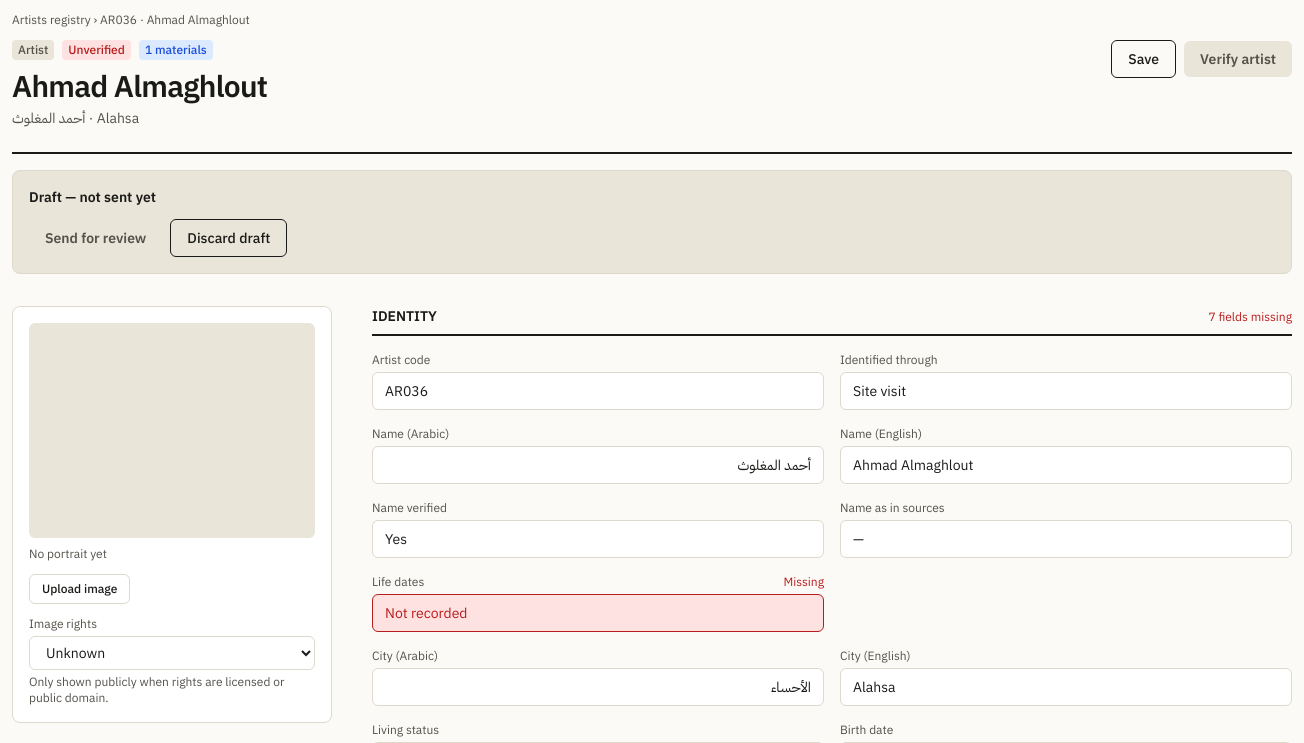
Test case: ArtistCurationPage › draft mode (proposals.submit) › sends the draft for review and flips the banner to awaiting review
The image size is (1304, 743).
Expected: the button with test id "send-for-review" is disabled, [29,220,162,256]
Click the button with test id "save-button": (1144, 59) [1111,40,1176,78]
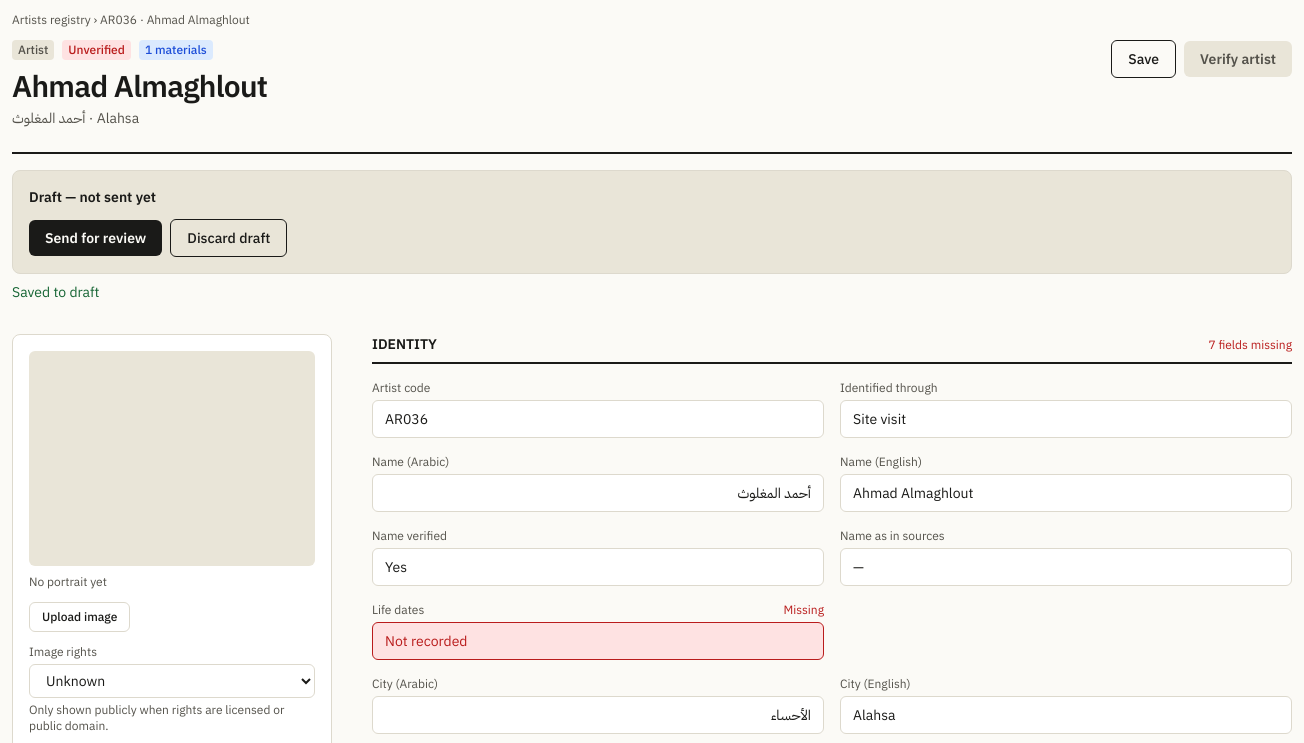
Expected: the button with test id "send-for-review" is enabled
Click the button with test id "send-for-review": (96, 238) [29,220,162,256]
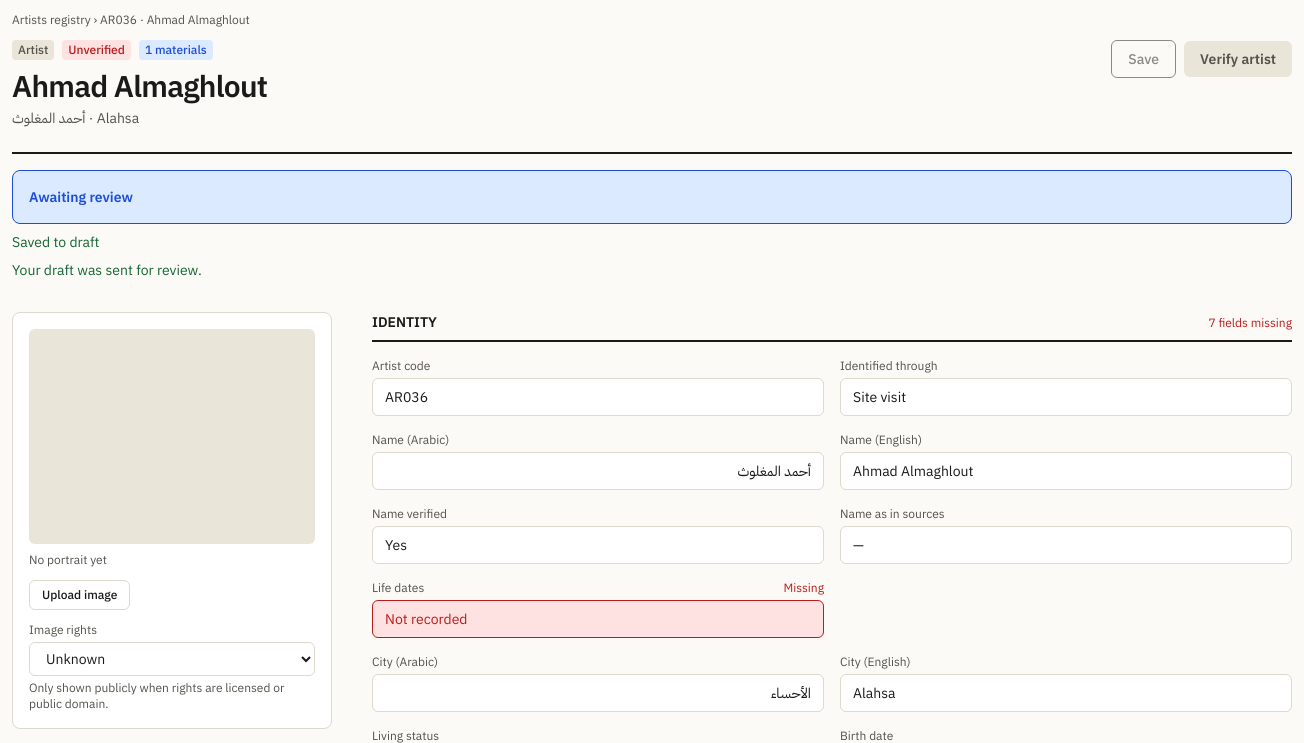
Expected: the text with test id "draft-notice" reads "Your draft was sent for review.", [12,261,202,279]
